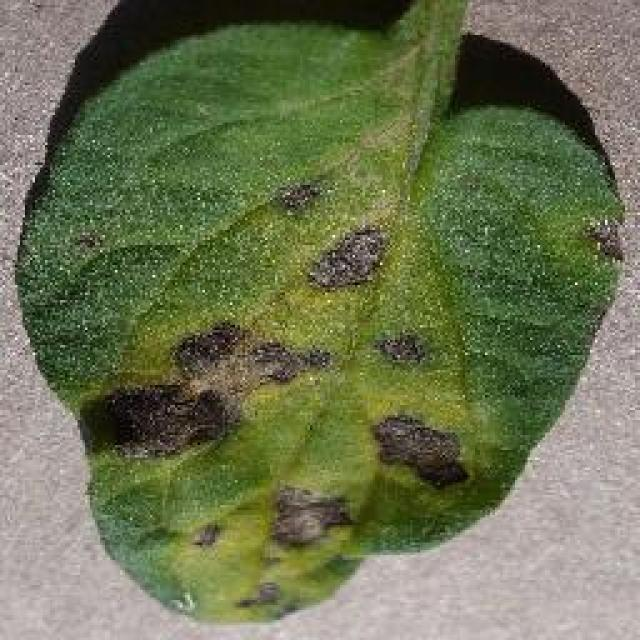Tomato___Early_blight: (12, 0, 623, 624)
